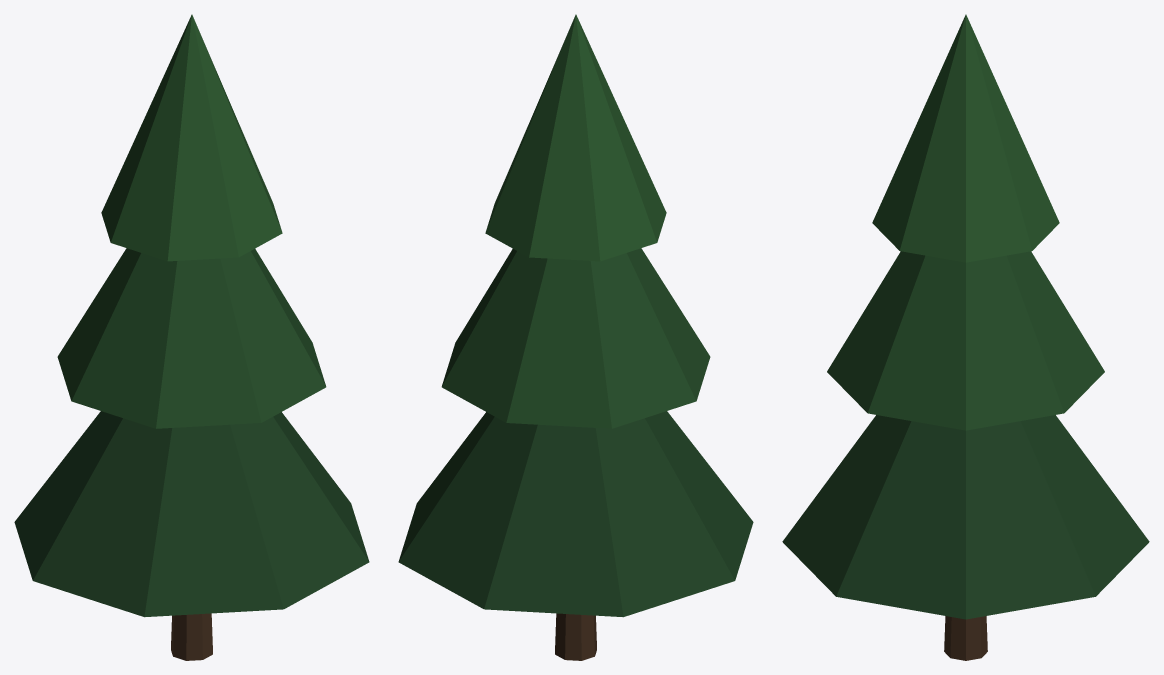
Rendered from tree_pine.glb.
The picture shows the model from 3 angles, left to right: view 1: azimuth 30°, elevation 25°; view 2: azimuth 150°, elevation 25°; view 3: azimuth 270°, elevation 25°; orthographic projection.
Visible parts, largest first — view 1: tree_pine; view 2: tree_pine; view 3: tree_pine.
Boxes of the visible parts, x1,y1,x2,y2 form: tree_pine: (14,14,369,660); tree_pine: (398,14,753,660); tree_pine: (782,14,1149,660).
Size of the model in its own units: 4.7 by 9 by 4.7.
